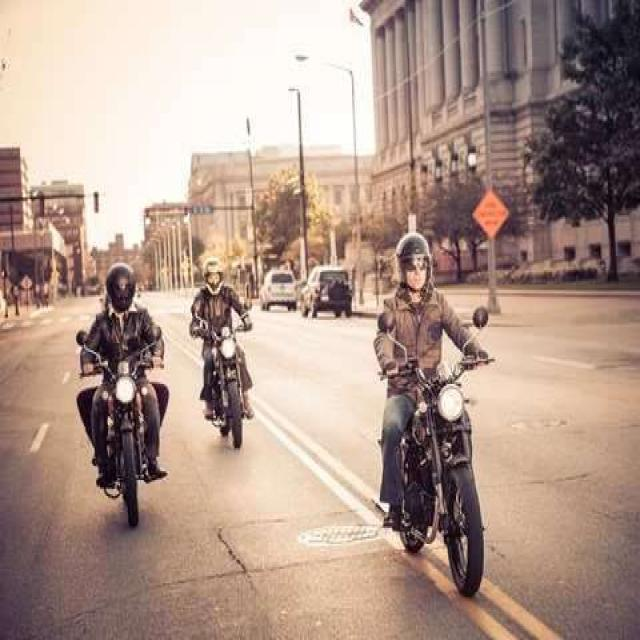motorcycle: (374, 233, 492, 596), (76, 263, 169, 524), (190, 258, 252, 448)
